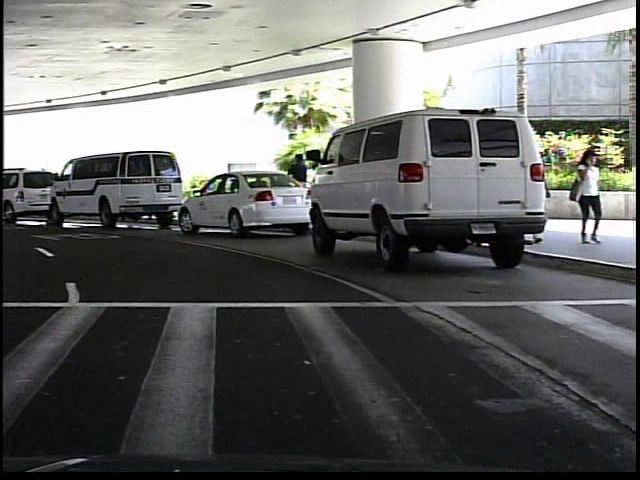person: (567, 147, 609, 245), (284, 149, 315, 217)
